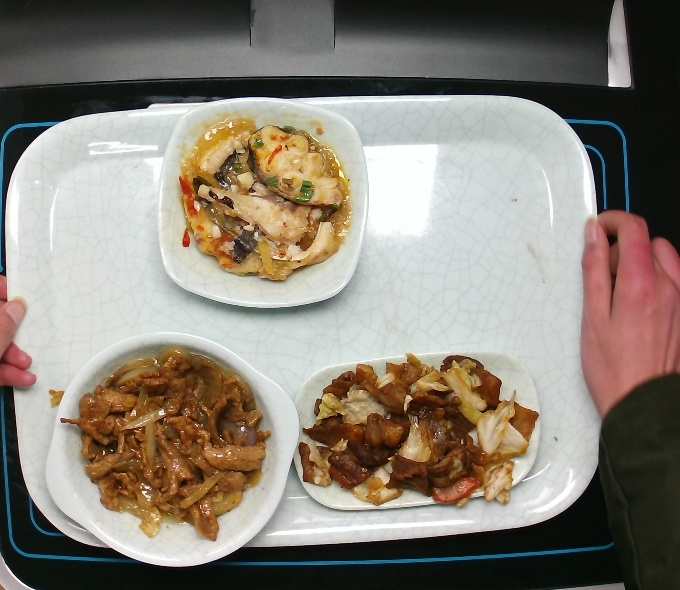wcq-DuoJiaoYuKuai: (176, 124, 346, 279)
wcq-PaoCaiRouPian: (296, 357, 536, 513)
wcq-YangCongRouPian: (78, 357, 265, 550)
